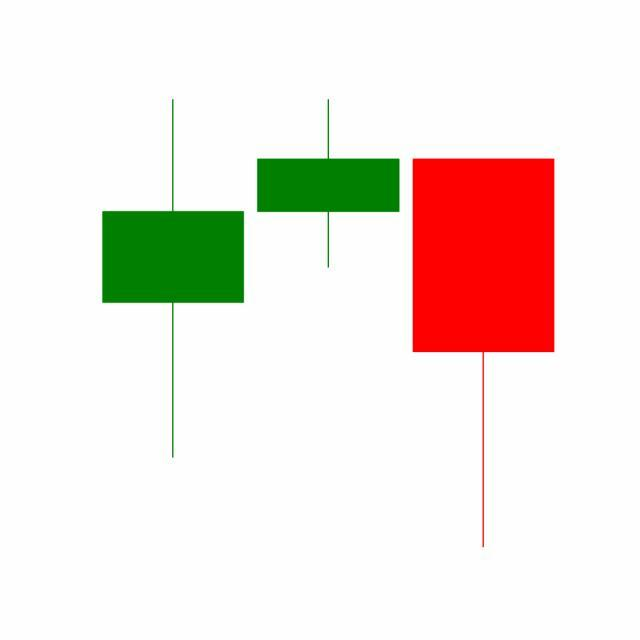Spinning Top: (250, 98, 407, 271)
